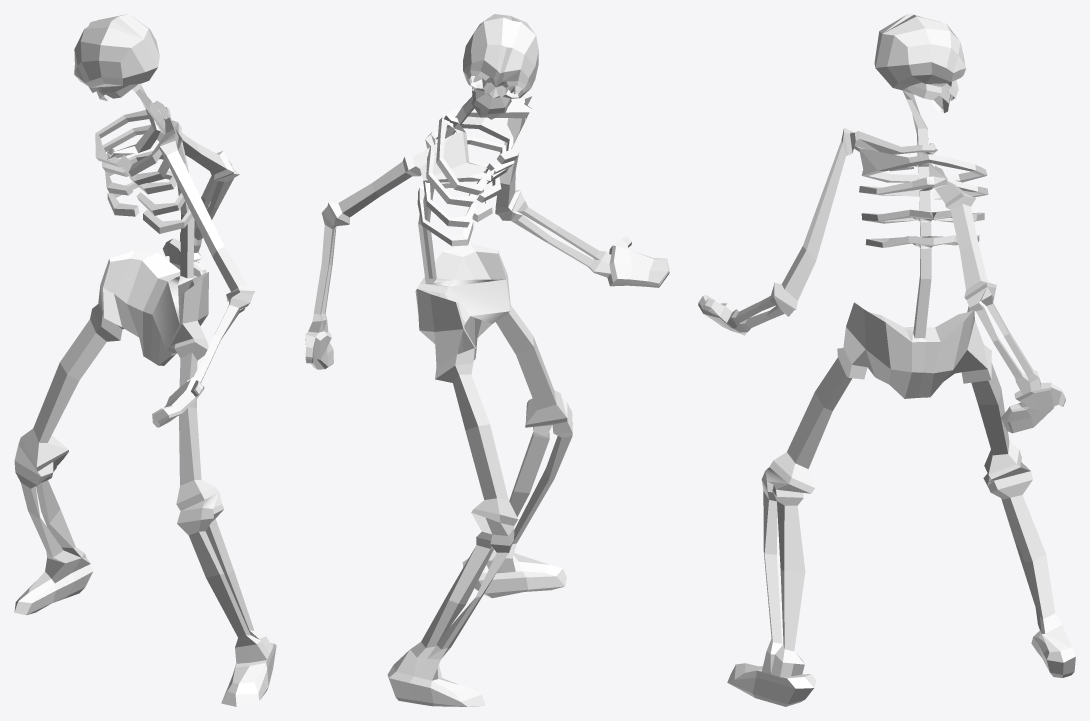
The model's file is SkeletonIdle(80).obj.
3 views of the same model, side by side, from view 1: azimuth 30°, elevation 25°; view 2: azimuth 150°, elevation 25°; view 3: azimuth 270°, elevation 25° (orthographic). The views are drawn at different scales.
Parts seen in each view (by area): view 1: Object002; view 2: Object002; view 3: Object002.
Boxes of the visible parts, bbox=[...] form: Object002: bbox=[14, 14, 276, 706]; Object002: bbox=[305, 14, 669, 706]; Object002: bbox=[698, 14, 1075, 706].
Size of the model in its own units: 400 by 1135 by 600.
